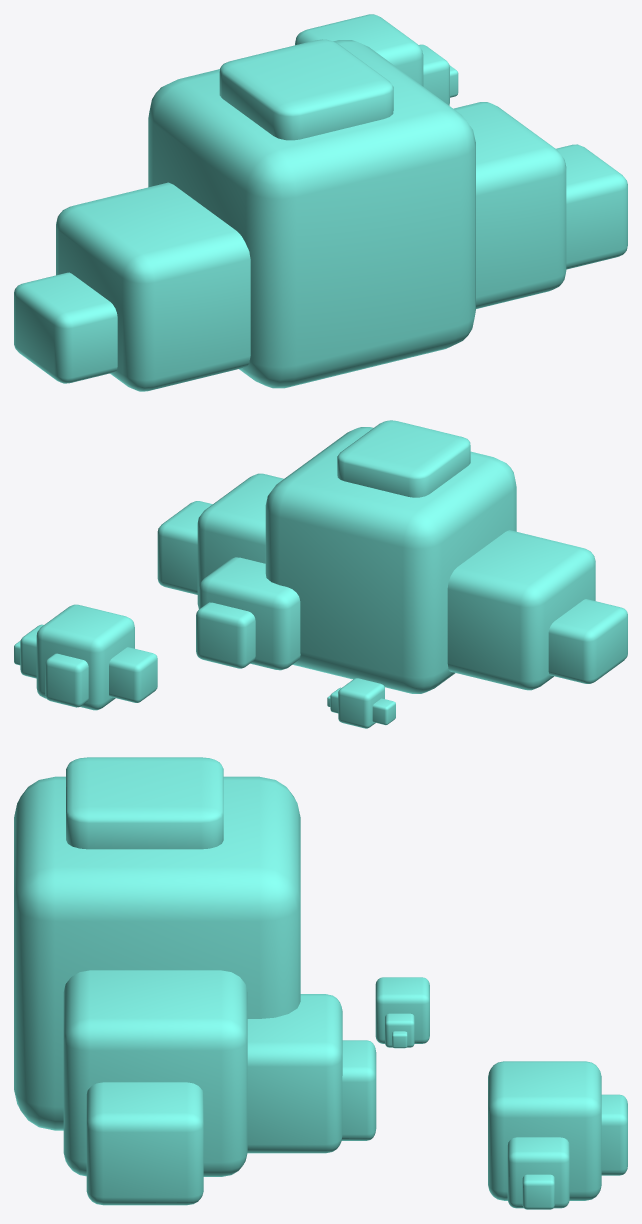
Rendered from ENV_Clouds.fbx.
3 views of the same model, one above another, from view 1: azimuth 30°, elevation 25°; view 2: azimuth 150°, elevation 25°; view 3: azimuth 270°, elevation 25° (orthographic). The views are drawn at different scales.
Parts seen in each view (by area): view 1: ENV_Cloud; view 2: ENV_Cloud; view 3: ENV_Cloud.
Part boxes in pixels (x1=…): ENV_Cloud: x1=14, y1=14, x2=627, y2=391; ENV_Cloud: x1=14, y1=420, x2=627, y2=728; ENV_Cloud: x1=14, y1=757, x2=627, y2=1209.
Bounding box in the file's own units: 846 × 1603 × 1980.
